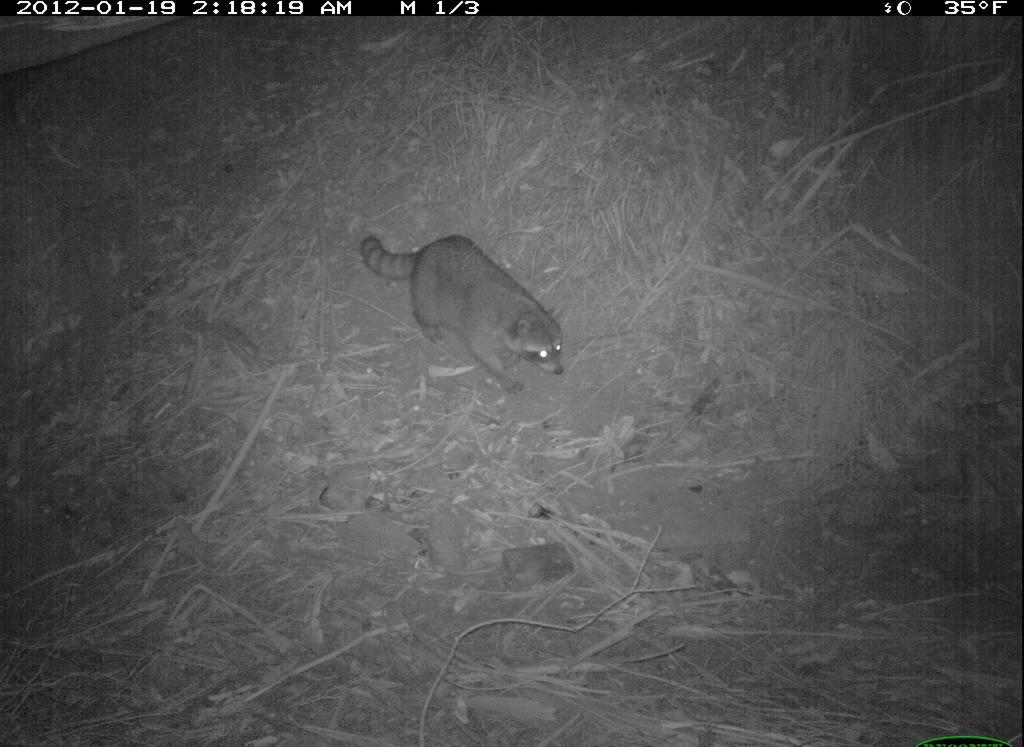raccoon: (344, 216, 588, 413)
